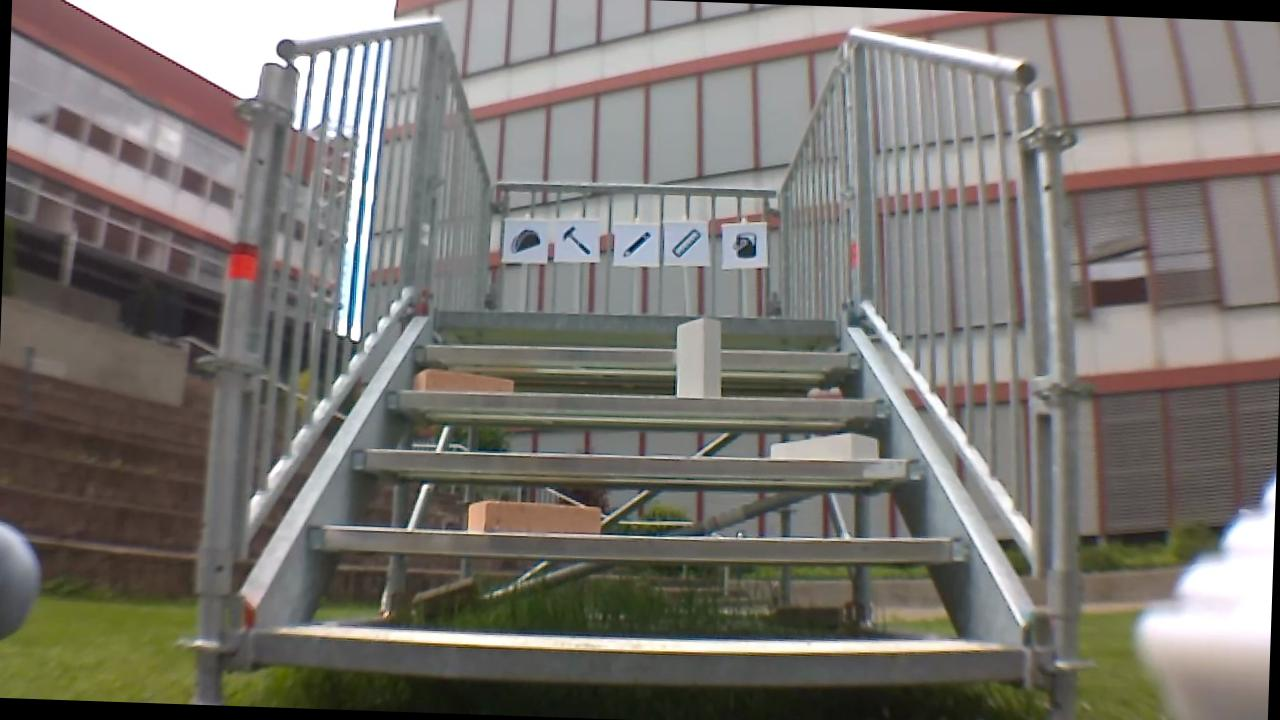brick: (466, 500, 599, 534), (674, 318, 722, 398), (772, 430, 878, 460), (412, 369, 512, 393)
bucket: (727, 227, 760, 262)
edge: (252, 622, 1022, 694), (305, 517, 965, 569), (350, 438, 929, 486), (387, 381, 893, 424), (415, 337, 859, 372), (435, 304, 839, 341)
hammer: (556, 220, 595, 259)
pencil: (618, 225, 653, 263)
ruler: (668, 222, 705, 262)
stairs: (181, 7, 1103, 720)
steps: (246, 291, 1036, 699)
taco: (507, 224, 542, 257)
